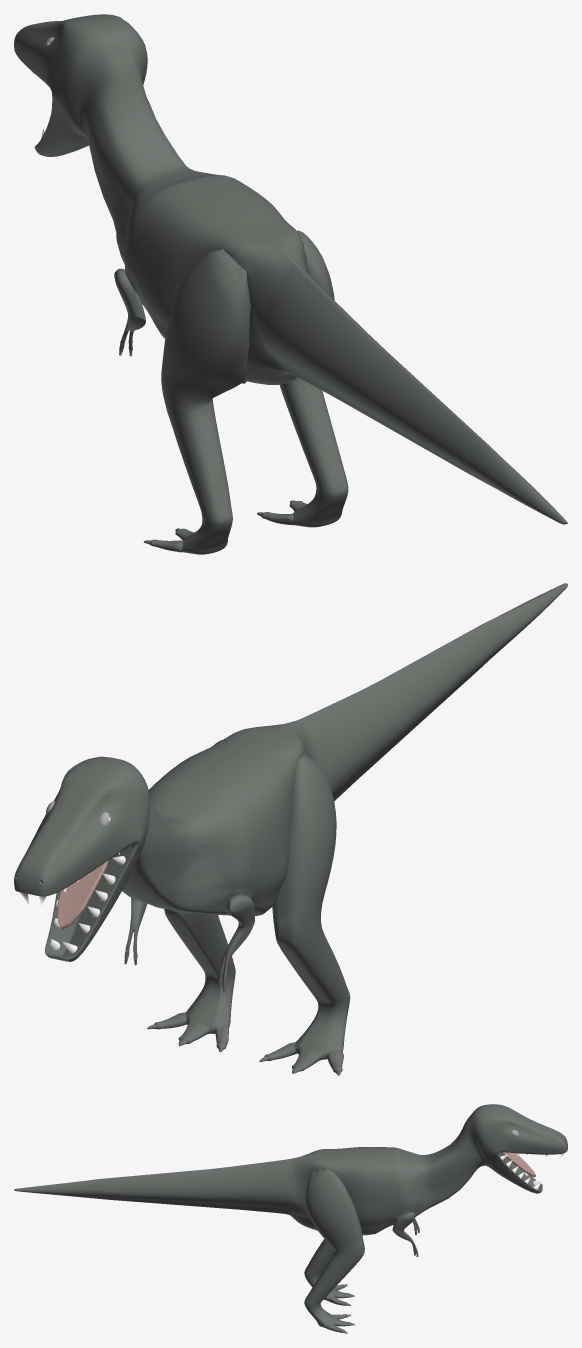
File: velociraptor_1.fbx
3 renders of one model, top to bottom at view 1: azimuth 30°, elevation 25°; view 2: azimuth 150°, elevation 25°; view 3: azimuth 270°, elevation 25°, orthographic. The views are drawn at different scales.
Parts seen in each view (by area): view 1: pSphere6; view 2: pSphere6; view 3: pSphere6.
Boxes of the visible parts, x1,y1,x2,y2 form: pSphere6: (14, 14, 567, 554); pSphere6: (14, 583, 567, 1075); pSphere6: (14, 1104, 567, 1333).
Bounding box in the file's own units: 2.84 × 5.55 × 13.73.
